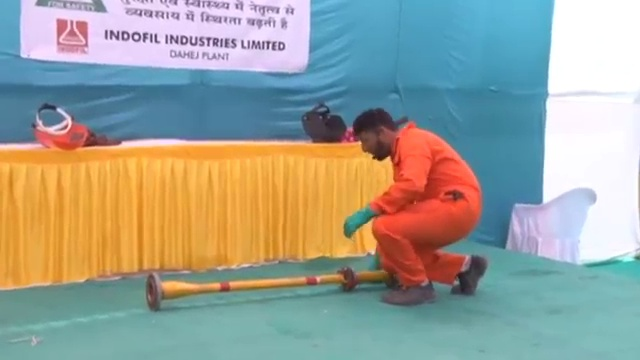helmet_off: (351, 107, 400, 163)
person: (346, 101, 492, 309)
